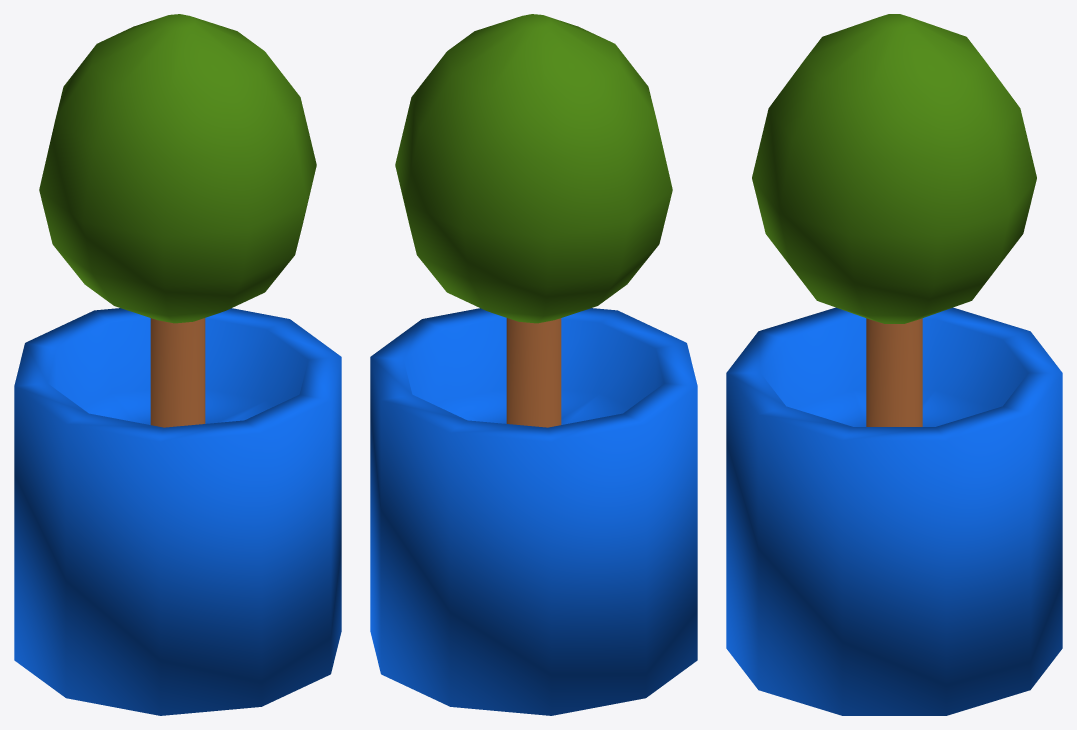
File: Plant.fbx
3 renders of one model, left to right at view 1: azimuth 30°, elevation 25°; view 2: azimuth 150°, elevation 25°; view 3: azimuth 270°, elevation 25°, orthographic.
Parts seen in each view (by area): view 1: plant; view 2: plant; view 3: plant.
Boxes of the visible parts, bbox=[...] form: plant: bbox=[14, 14, 341, 715]; plant: bbox=[370, 14, 697, 715]; plant: bbox=[726, 14, 1062, 715].
Size of the model in its own units: 54.33 by 117 by 57.13.
